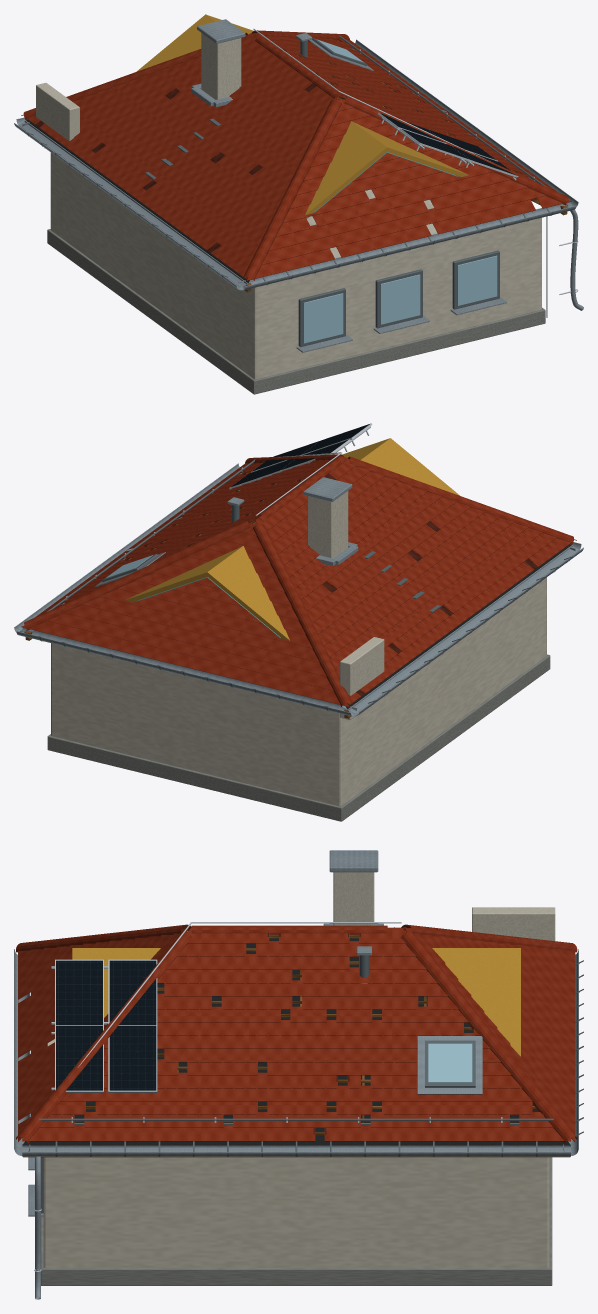
Rendered from uebersicht.glb.
3 renders of one model, top to bottom at view 1: azimuth 30°, elevation 25°; view 2: azimuth 150°, elevation 25°; view 3: azimuth 270°, elevation 25°, orthographic. The views are drawn at different scales.
Parts seen in each view (by area): view 1: Bauteil_s01_deckung, Putzkörper Erdgeschoss, Bauteil_w04_deckung, Sockelzone, Bauteil_s03_deckung, Bauteil_w01_deckung, Bauteil_g02_tragwerk.001, Bauteil_g03_daemmung, Bauteil_g02_tragwerk, Schornsteinschaft, Bauteil_s02_deckung, Anschlusswand Nachbarbauteil (+9 smaller); view 2: Putzkörper Erdgeschoss, Bauteil_s01_deckung, Bauteil_w04_deckung, Sockelzone, Bauteil_w01_deckung, Bauteil_s03_deckung, Bauteil_g03_daemmung, Schornsteinschaft, Bauteil_s02_deckung, Anschlusswand Nachbarbauteil, Bauteil_a01_deckung.001, Bauteil_s05_deckung (+4 smaller); view 3: Bauteil_s01_deckung, Putzkörper Erdgeschoss, Bauteil_w04_deckung, Bauteil_a01_deckung.001, Sockelzone, Bauteil_w01_deckung, Bauteil_g03_daemmung, Bauteil_s03_deckung, Bauteil_g01_zusatzebene, Bauteil_s02_deckung, Anschlusswand Nachbarbauteil, Schornsteinschaft (+12 smaller).
Boxes of the visible parts, box(x1,y1,x2,y2) form: Bauteil_s01_deckung: box(26, 33, 557, 278); Putzkörper Erdgeschoss: box(50, 152, 541, 379); Bauteil_w04_deckung: box(21, 33, 571, 280); Sockelzone: box(47, 229, 545, 394); Bauteil_s03_deckung: box(14, 39, 578, 290); Bauteil_w01_deckung: box(23, 30, 568, 280); Bauteil_g02_tragwerk.001: box(303, 255, 497, 343); Bauteil_g03_daemmung: box(136, 14, 468, 218); Bauteil_g02_tragwerk: box(298, 250, 499, 346); Schornsteinschaft: box(201, 33, 241, 99); Bauteil_s02_deckung: box(19, 110, 573, 287); Anschlusswand Nachbarbauteil: box(36, 83, 79, 140); Putzkörper Erdgeschoss: box(51, 577, 546, 806); Bauteil_s01_deckung: box(36, 457, 570, 704); Bauteil_w04_deckung: box(21, 457, 576, 706); Sockelzone: box(47, 654, 550, 821); Bauteil_w01_deckung: box(24, 454, 573, 706); Bauteil_s03_deckung: box(14, 463, 583, 716); Bauteil_g03_daemmung: box(125, 438, 459, 640); Schornsteinschaft: box(307, 491, 348, 558); Bauteil_s02_deckung: box(19, 546, 578, 713); Anschlusswand Nachbarbauteil: box(340, 637, 384, 719); Bauteil_a01_deckung.001: box(231, 424, 369, 486); Bauteil_s05_deckung: box(257, 455, 346, 518); Bauteil_s01_deckung: box(22, 927, 570, 1141); Putzkörper Erdgeschoss: box(43, 1039, 549, 1267); Bauteil_w04_deckung: box(18, 927, 575, 1142); Bauteil_a01_deckung.001: box(56, 960, 156, 1090); Sockelzone: box(41, 1157, 552, 1285); Bauteil_w01_deckung: box(16, 924, 577, 1143); Bauteil_g03_daemmung: box(72, 948, 520, 1056); Bauteil_s03_deckung: box(14, 949, 578, 1156); Bauteil_g01_zusatzebene: box(22, 938, 570, 1145); Bauteil_s02_deckung: box(22, 1141, 570, 1151); Anschlusswand Nachbarbauteil: box(472, 907, 555, 940); Schornsteinschaft: box(333, 872, 374, 925).
Bounding box in the file's own units: 10.67 × 7.16 × 11.94.
13 materials, 9 textured.
